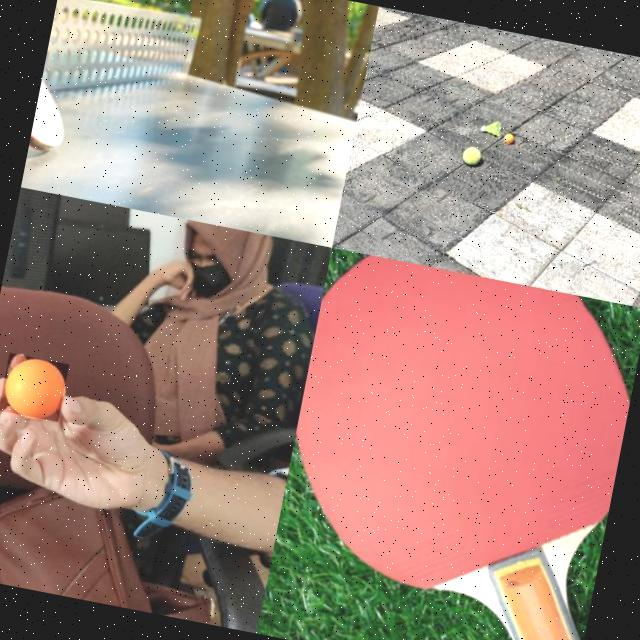ping-pong-ball: (0, 351, 68, 422), (504, 132, 516, 144)
